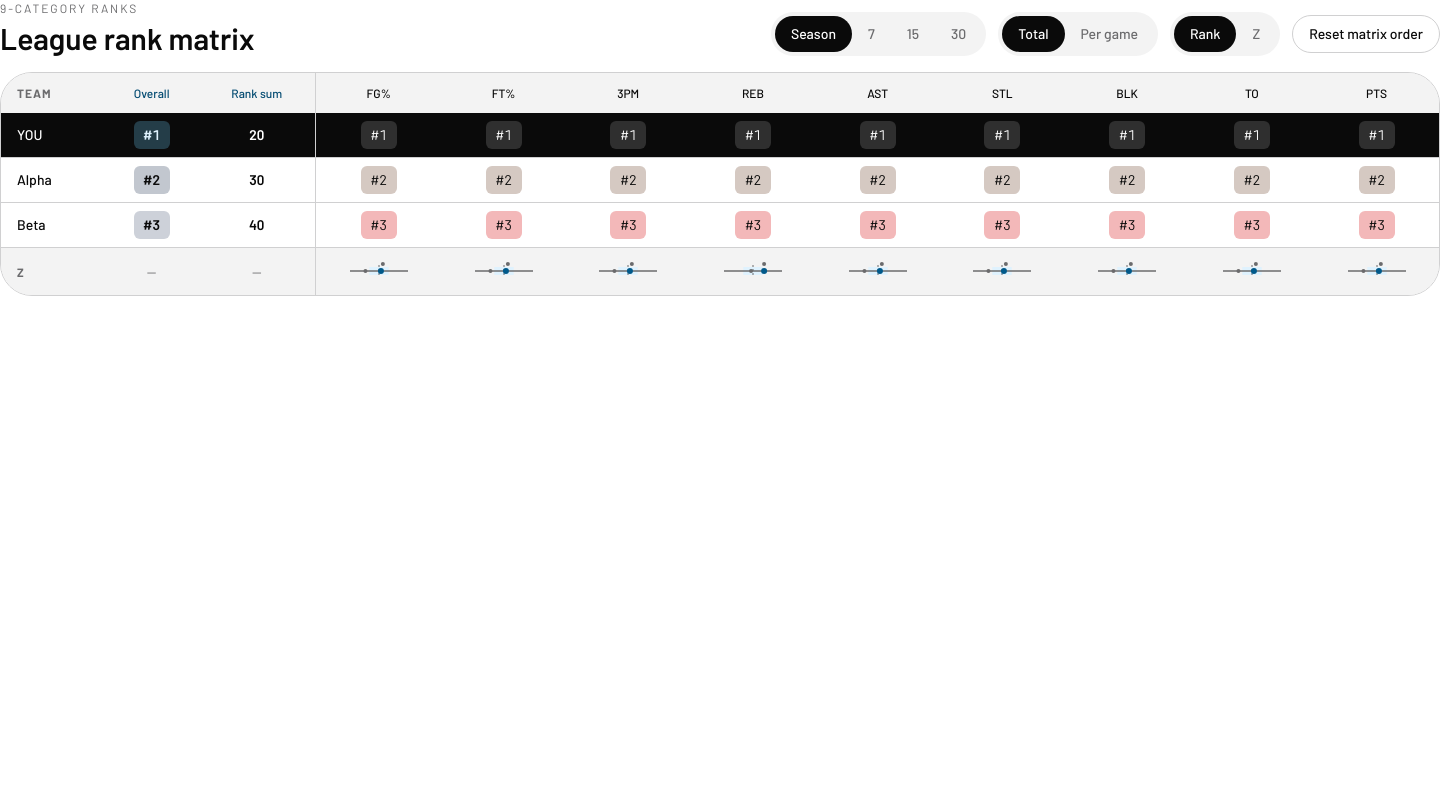
Test case: LeagueRankMatrix z row › opens the category dialog and restores focus and overflow on escape
This screenshot has width=1440, height=810.
Step 1. Click the button named "Show REB league z" → {"x": 753, "y": 271}, box 717,256 -> 789,286
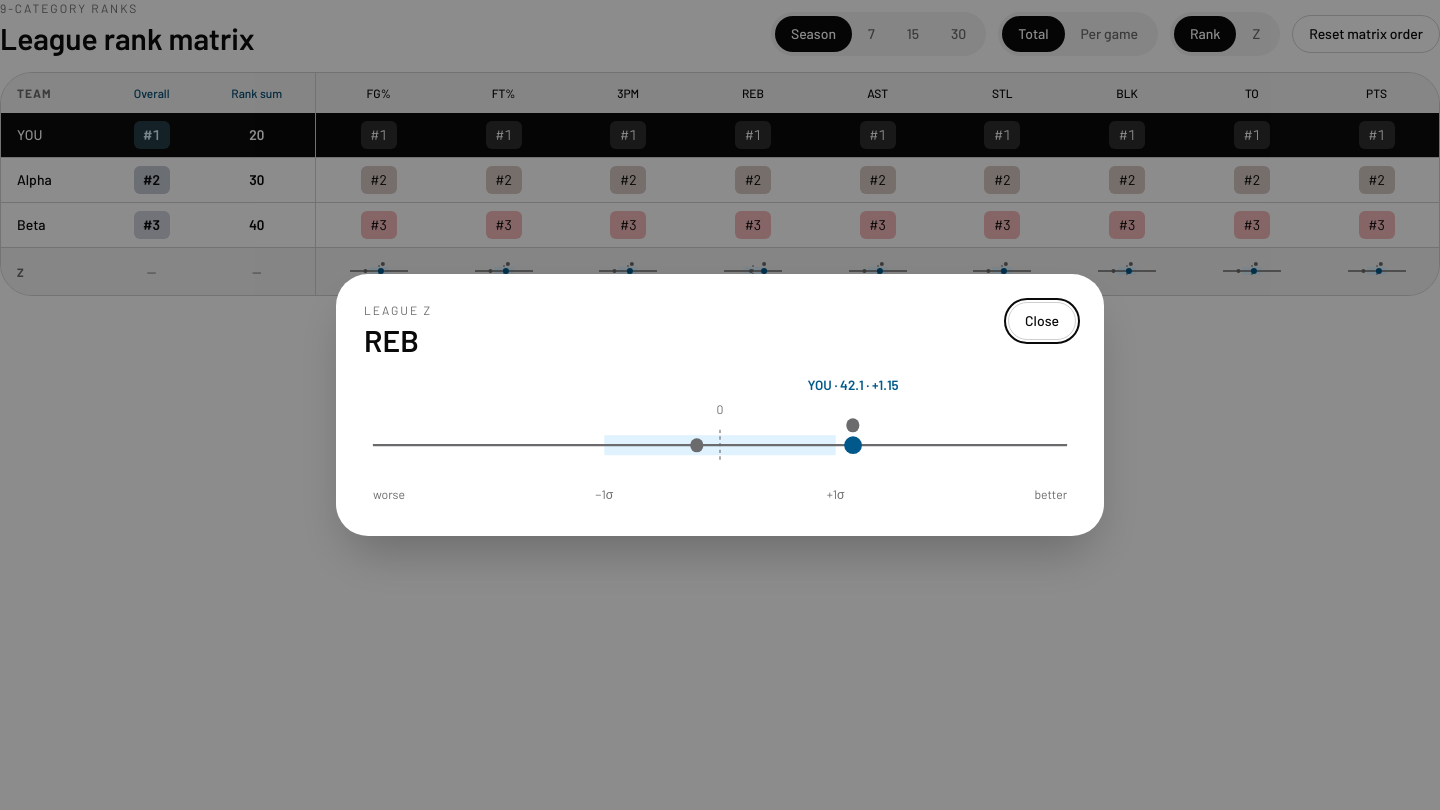
Check: the heading "REB" is shown, box 364,322 -> 419,358
Step 2. Press Tab
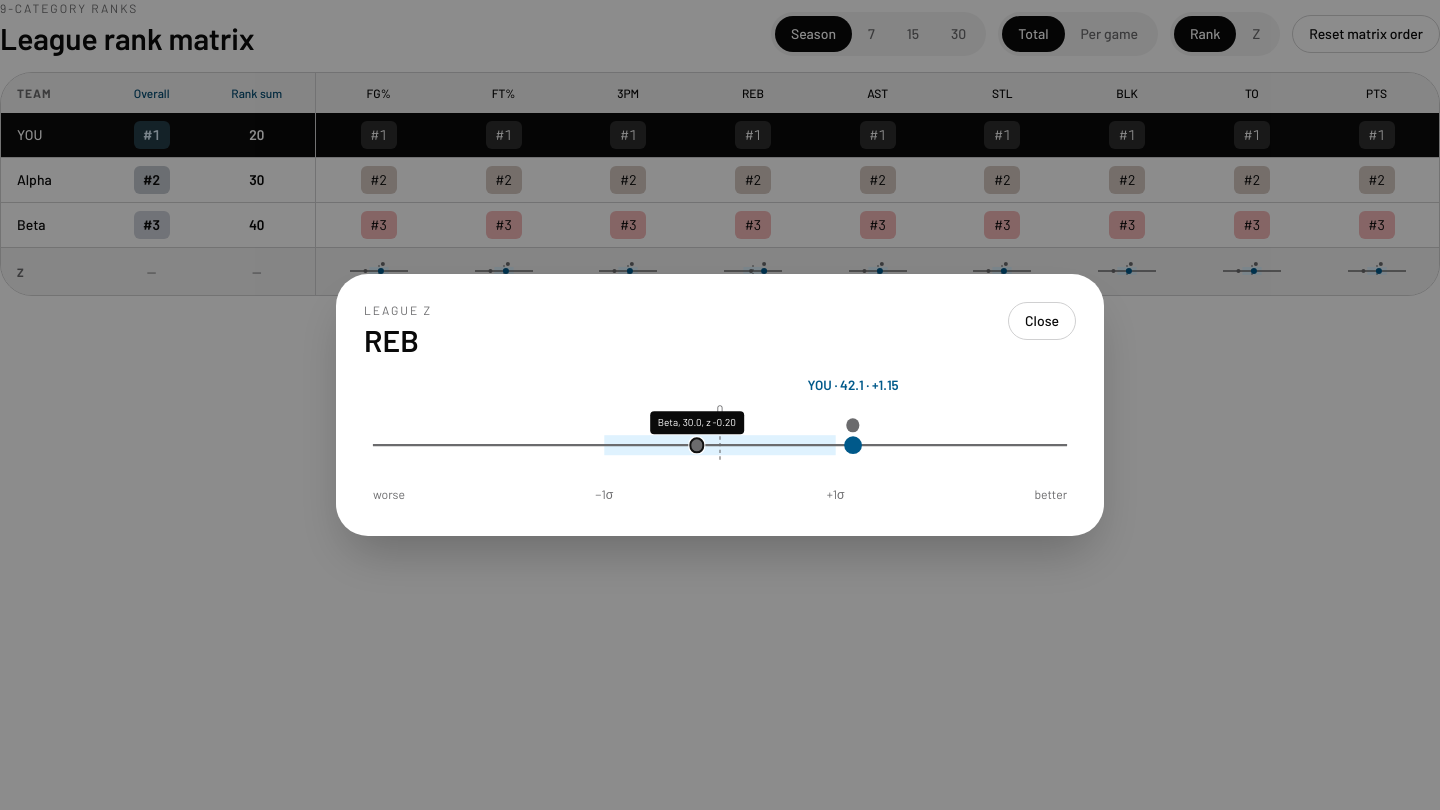
Step 3. Press Tab
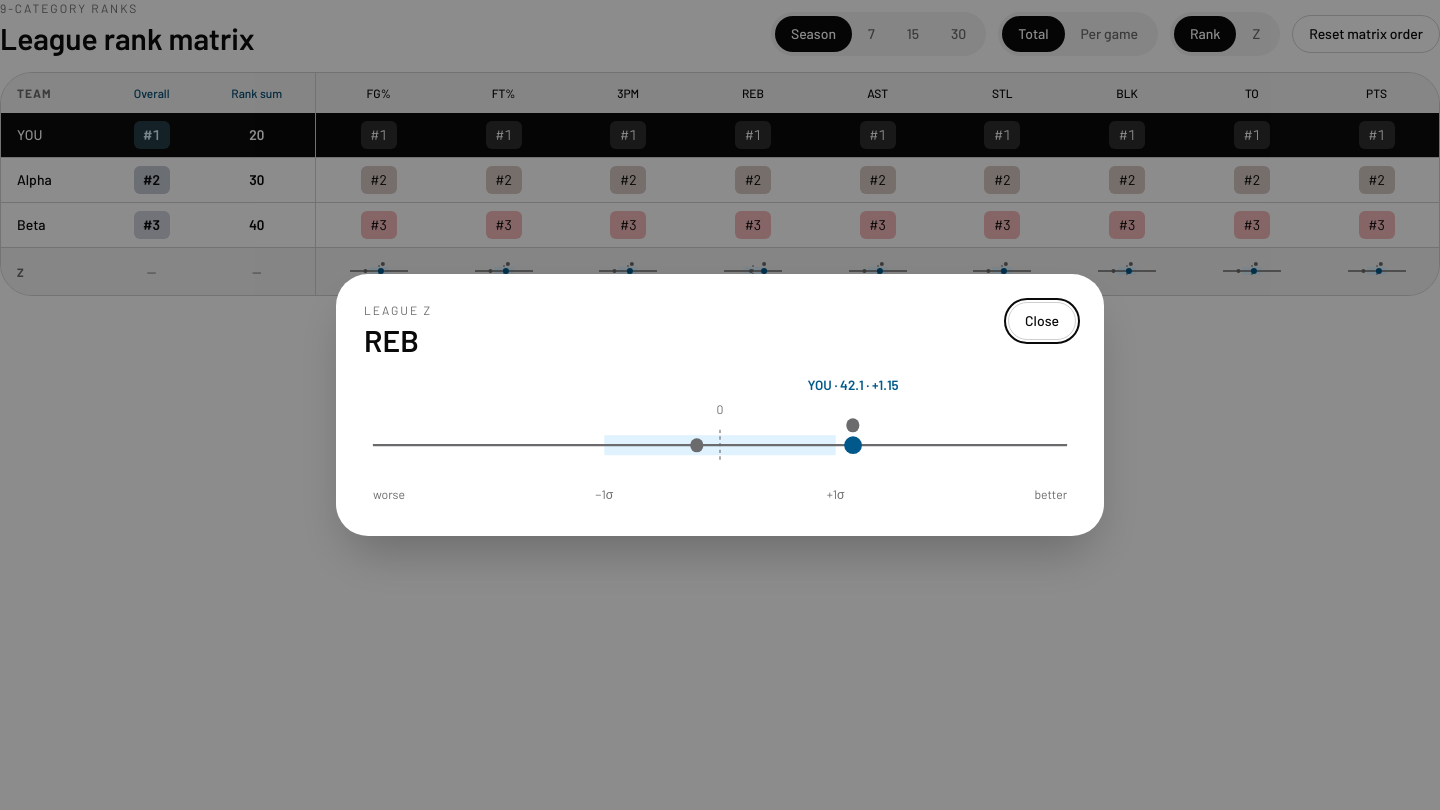
Step 4. Press Escape
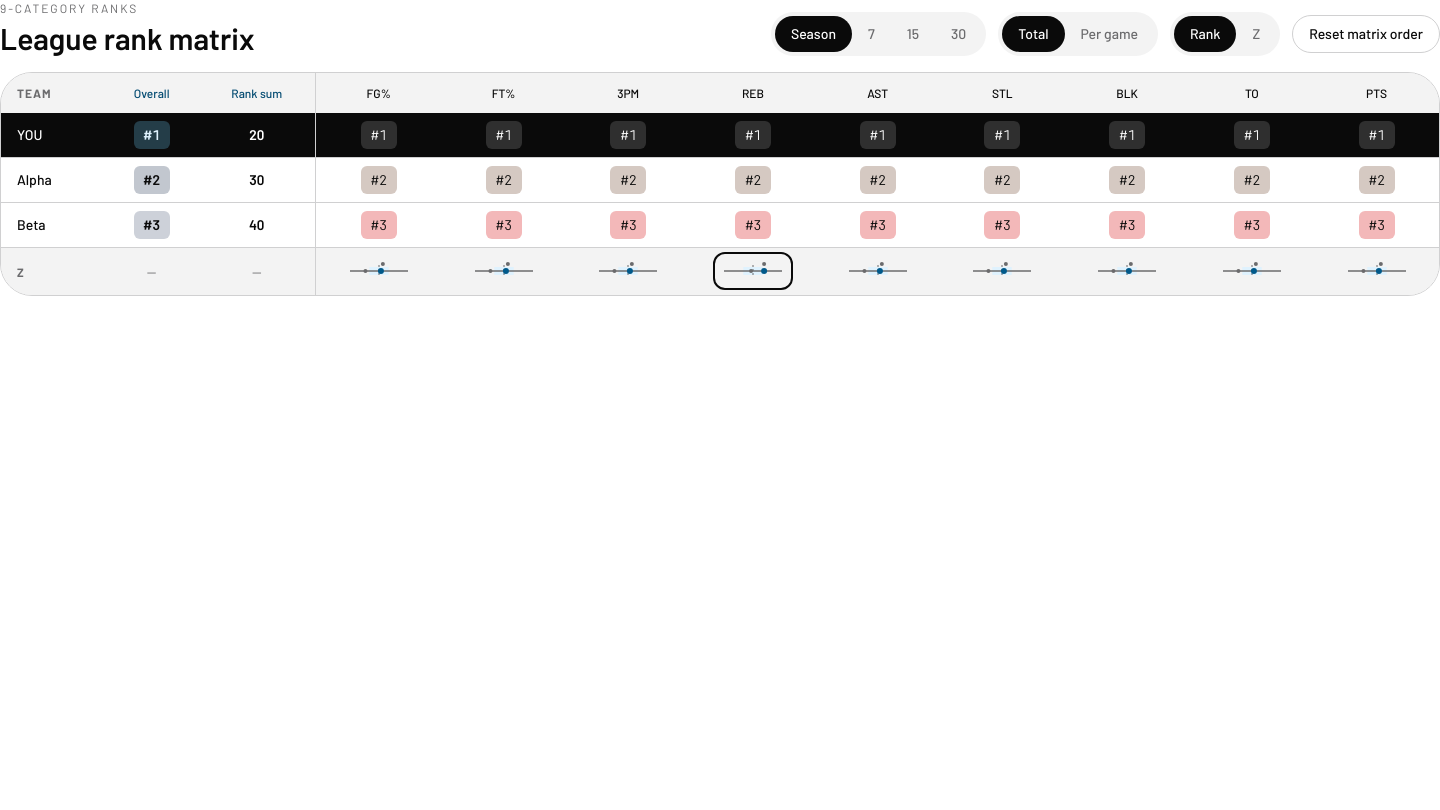
Check: the dialog is gone
